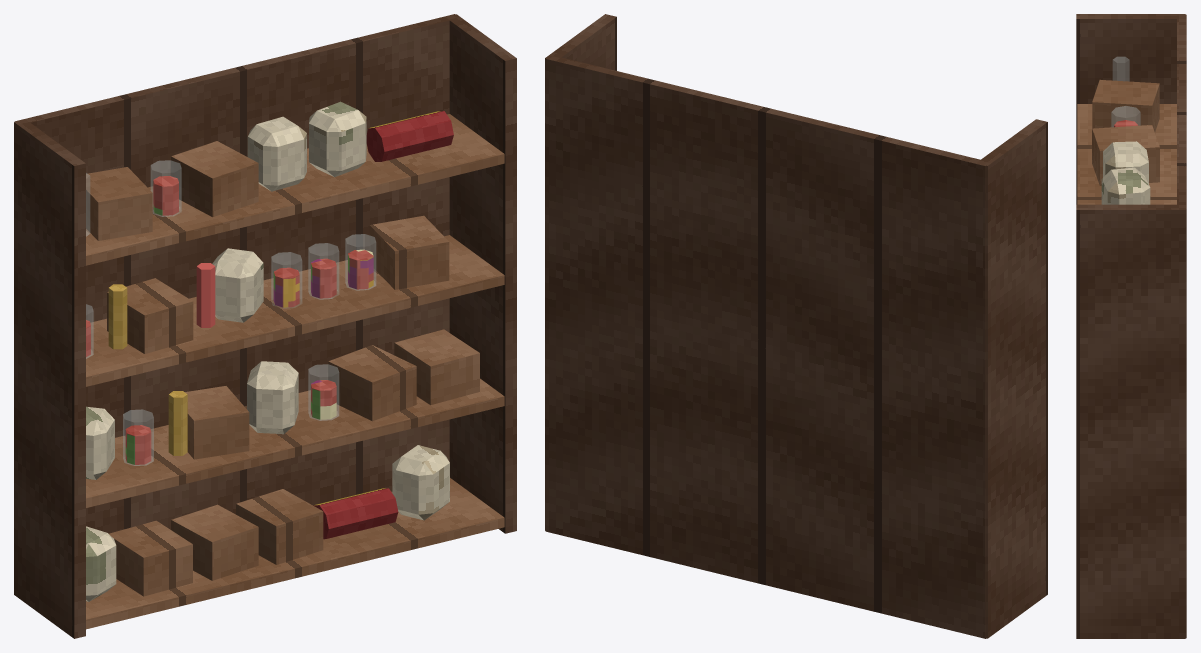
Rendered from shop_shelf.glb.
3 renders of one model, left to right at view 1: azimuth 30°, elevation 25°; view 2: azimuth 150°, elevation 25°; view 3: azimuth 270°, elevation 25°, orthographic. The views are drawn at different scales.
Visible parts, largest first — view 1: body; view 2: body; view 3: body.
Boxes of the visible parts, x1,y1,x2,y2 form: body: (14,14,516,638); body: (545,14,1047,638); body: (1076,14,1186,638).
Size of the model in its own units: 1.91 by 1.95 by 0.455.
8 materials, 6 textured.
